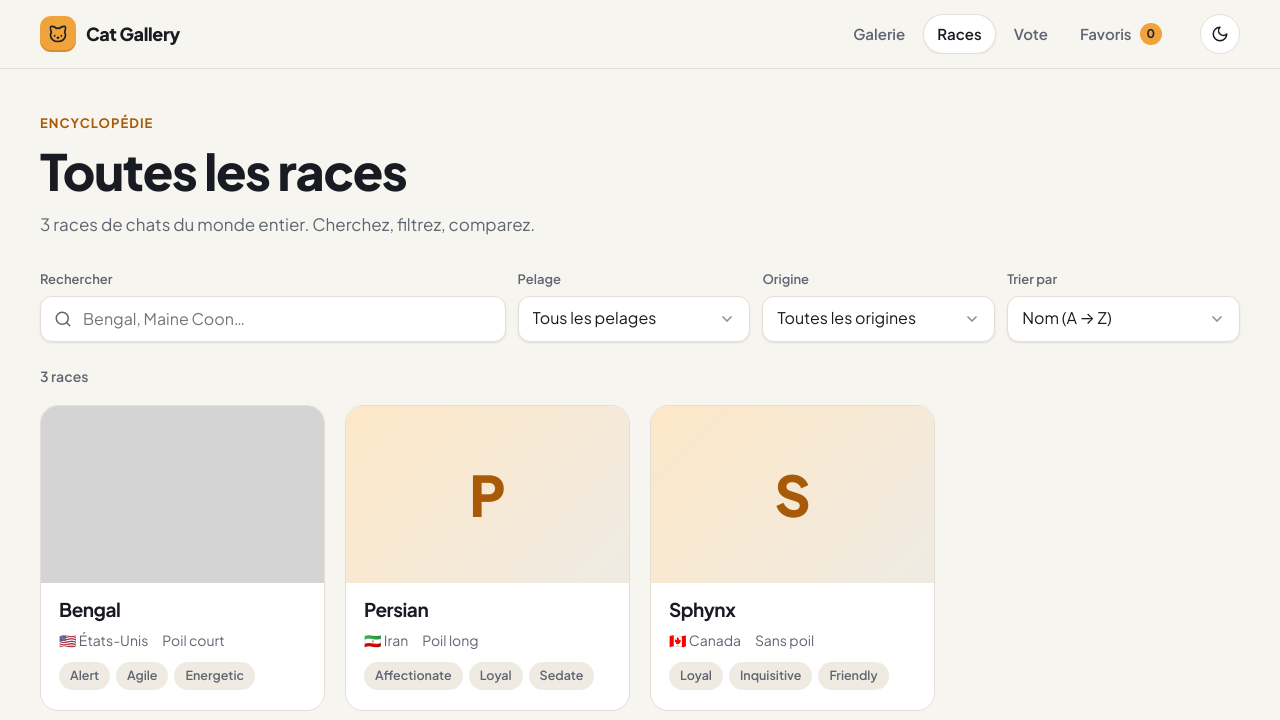
Test: breeds › filters by coat and resets the filters
The image size is (1280, 720).
Select "Sans poil" in the dropdown labelled "Pelage" at (634, 319), box [518,296,750,342]
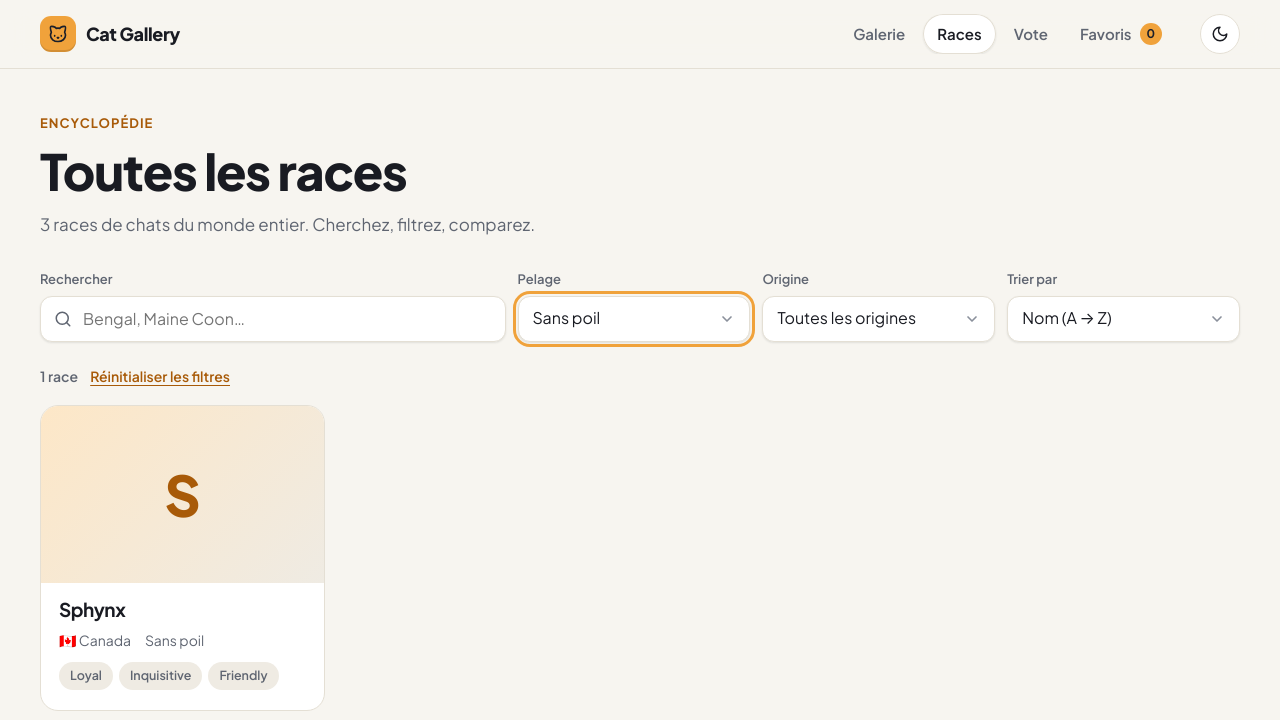
Expected: the link "S Sphynx 🇨🇦 Canada Sans poil Loyal Inquisitive Friendly" is shown, [40,405,325,710]
Expected: the text "1 race" is shown, [40,366,230,387]
Click the button "Réinitialiser les filtres" at (160, 376), box [90,366,230,387]
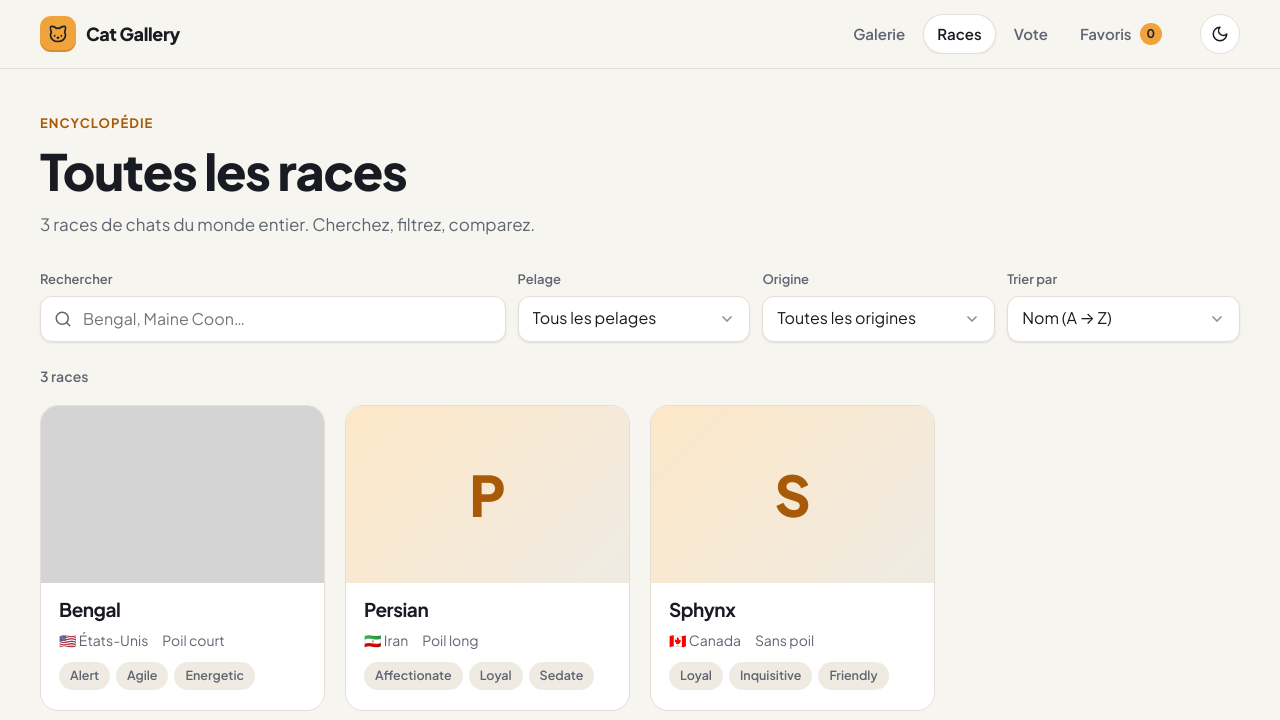
Expected: the text "3 races" is shown, [40,367,88,385]
